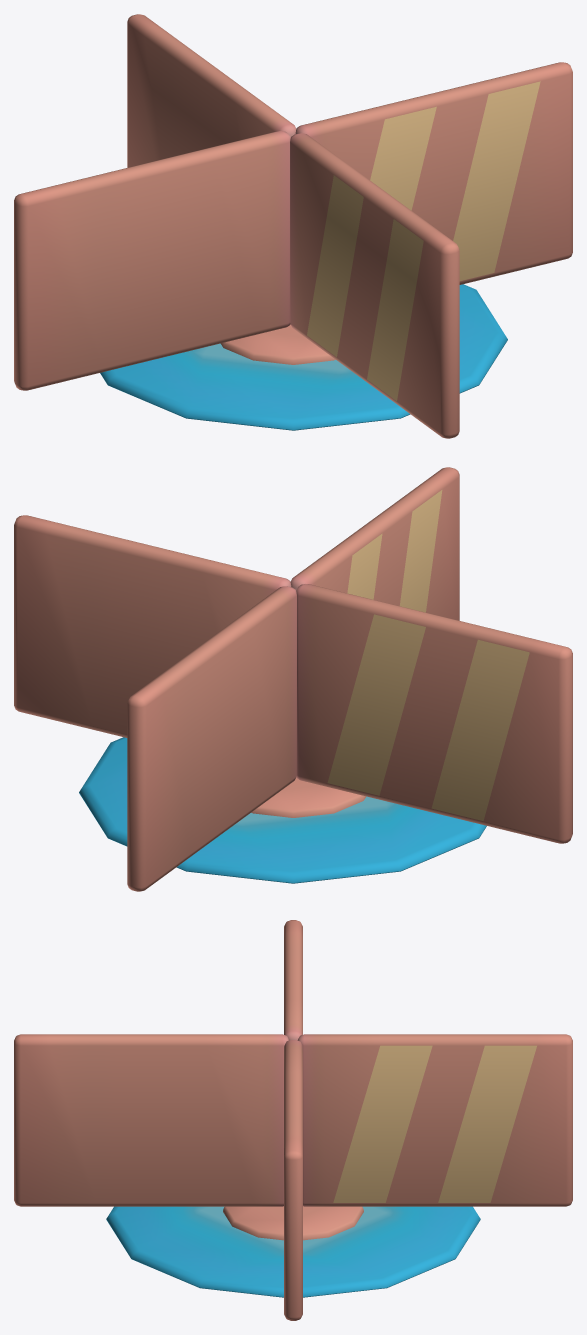
Rendered from Square_wheel.fbx.
3 views of the same model, one above another, from view 1: azimuth 30°, elevation 25°; view 2: azimuth 150°, elevation 25°; view 3: azimuth 270°, elevation 25° (orthographic). The views are drawn at different scales.
Parts seen in each view (by area): view 1: Square_wheel (×2); view 2: Square_wheel (×2); view 3: Square_wheel (×2).
Boxes of the visible parts, bbox=[...] form: Square_wheel (×2): bbox=[14, 14, 572, 438]; Square_wheel (×2): bbox=[14, 467, 572, 891]; Square_wheel (×2): bbox=[14, 920, 572, 1320].
Bounding box in the file's own units: 597 × 217 × 597.
Materials: 1 (1 with a texture image).
